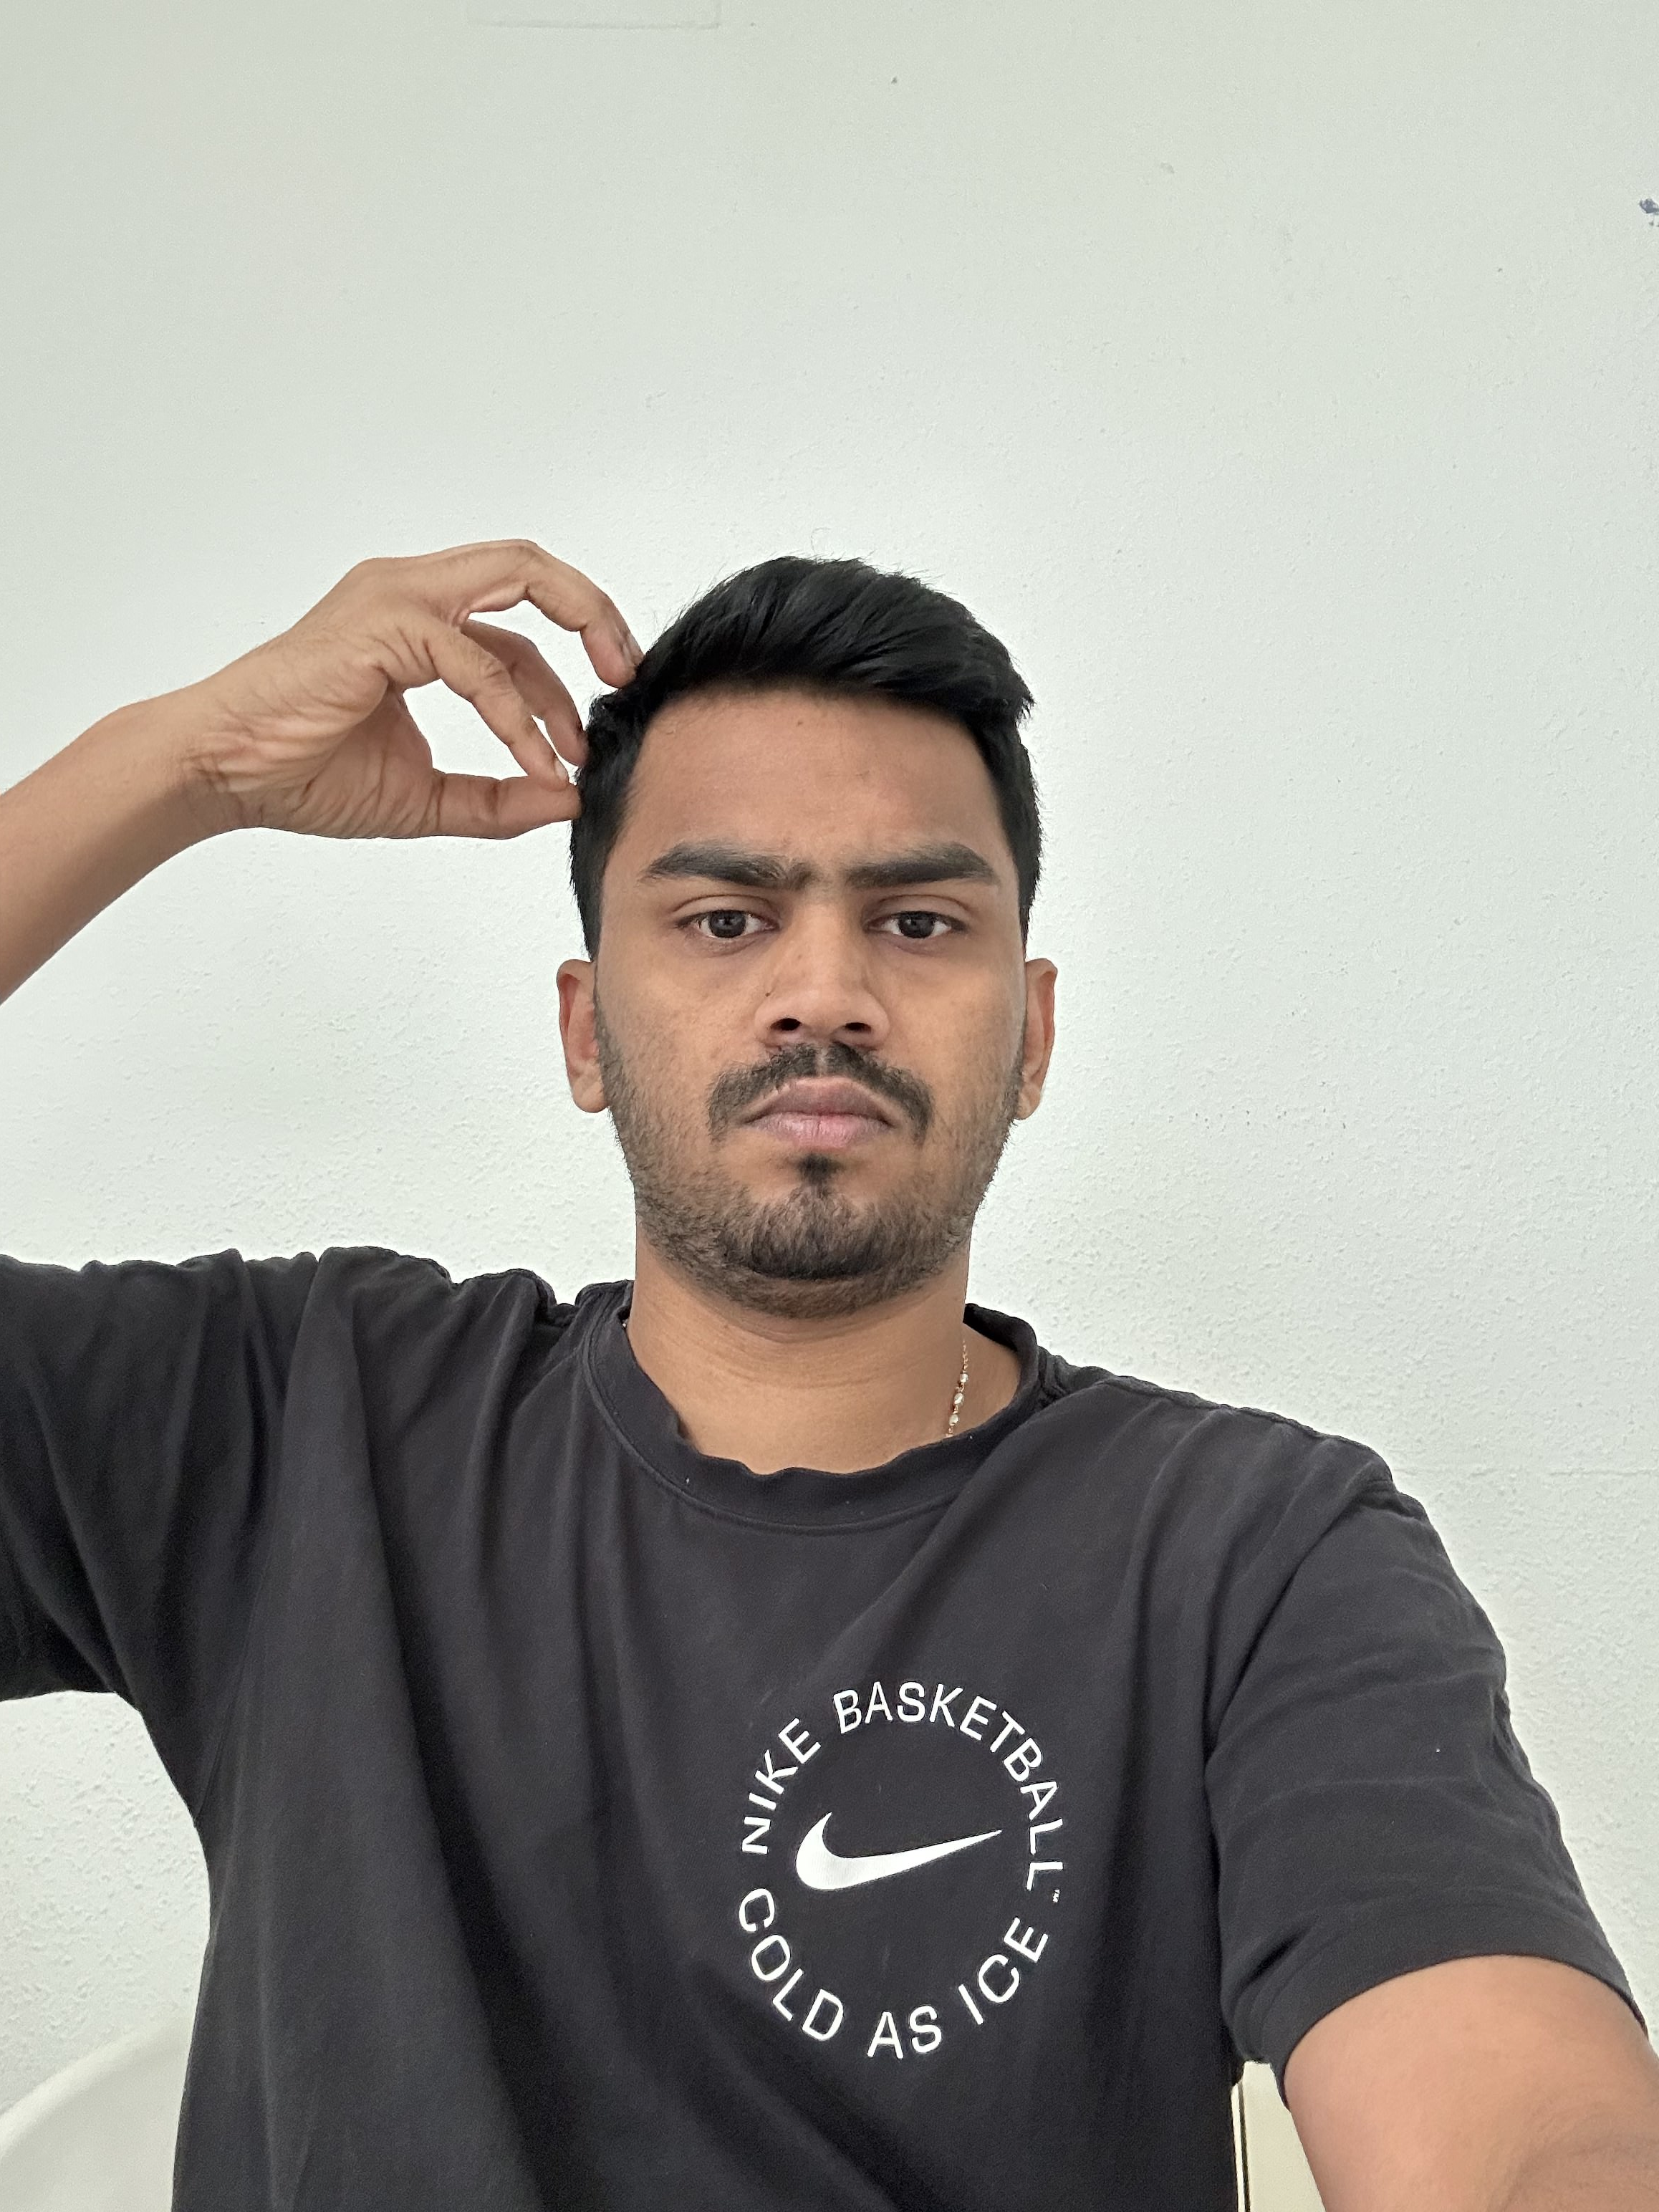brain: (3, 545, 1650, 2205), (728, 1672, 1072, 2066)
